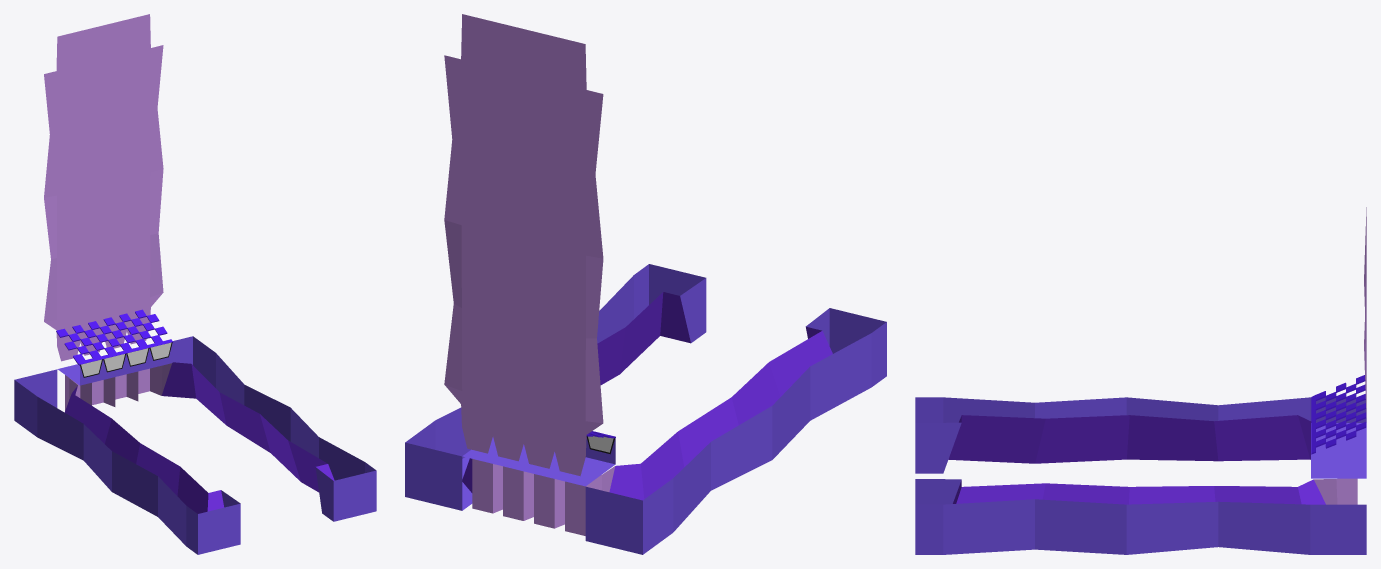
Rendered from bg_purple.fbx.
The picture shows the model from 3 angles, left to right: view 1: azimuth 30°, elevation 25°; view 2: azimuth 150°, elevation 25°; view 3: azimuth 270°, elevation 25°; orthographic projection. The views are drawn at different scales.
Visible parts, largest first — view 1: Background.purple, Background.purple.003, Background.purple.005, Background.purple.001, Grille.purple, Background.purple.025, Background.purple.022, Background.purple.007, Background.purple.002, Background.purple.004, Background.purple.006, Glass.purple (+3 smaller); view 2: Background.purple, Background.purple.006, Background.purple.002, Background.purple.004, Background.purple.025, Background.purple.007, Background.purple.003, Background.purple.005, Background.purple.024, Background.purple.001, Background.purple.021, Background.purple.023 (+5 smaller); view 3: Background.purple.023, Background.purple.024, Background.purple.022, Background.purple.021, Background.purple.003, Background.purple.002, Background.purple.005, Background.purple.004, Background.purple.007, Background.purple, Background.purple.001, Background.purple.025 (+3 smaller).
Boxes of the visible parts, x1=… form: Background.purple: x1=44, y1=14, x2=163, y2=385; Background.purple.003: x1=112, y1=443, x2=180, y2=516; Background.purple.005: x1=37, y1=393, x2=111, y2=460; Background.purple.001: x1=186, y1=490, x2=240, y2=554; Grille.purple: x1=56, y1=309, x2=172, y2=365; Background.purple.025: x1=315, y1=462, x2=376, y2=521; Background.purple.022: x1=219, y1=384, x2=290, y2=452; Background.purple.007: x1=161, y1=336, x2=215, y2=398; Background.purple.002: x1=158, y1=467, x2=208, y2=545; Background.purple.004: x1=83, y1=419, x2=139, y2=491; Background.purple.006: x1=14, y1=369, x2=77, y2=436; Glass.purple: x1=80, y1=342, x2=172, y2=385; Background.purple: x1=444, y1=14, x2=615, y2=486; Background.purple.006: x1=585, y1=463, x2=673, y2=554; Background.purple.002: x1=769, y1=331, x2=871, y2=420; Background.purple.004: x1=678, y1=397, x2=772, y2=490; Background.purple.025: x1=634, y1=264, x2=706, y2=343; Background.purple.007: x1=405, y1=420, x2=472, y2=510; Background.purple.003: x1=731, y1=362, x2=810, y2=459; Background.purple.005: x1=640, y1=432, x2=710, y2=531; Background.purple.024: x1=597, y1=275, x2=663, y2=373; Background.purple.001: x1=805, y1=308, x2=886, y2=386; Background.purple.021: x1=435, y1=407, x2=470, y2=478; Background.purple.023: x1=597, y1=327, x2=625, y2=384; Background.purple.023: x1=1035, y1=483, x2=1129, y2=554; Background.purple.024: x1=943, y1=483, x2=1045, y2=554; Background.purple.022: x1=1126, y1=486, x2=1218, y2=554; Background.purple.021: x1=1214, y1=486, x2=1310, y2=554; Background.purple.003: x1=1035, y1=397, x2=1129, y2=463; Background.purple.002: x1=943, y1=397, x2=1045, y2=463; Background.purple.005: x1=1214, y1=397, x2=1310, y2=461; Background.purple.004: x1=1126, y1=397, x2=1218, y2=461; Background.purple.007: x1=1298, y1=479, x2=1366, y2=554; Background.purple: x1=1311, y1=207, x2=1366, y2=478; Background.purple.001: x1=915, y1=397, x2=961, y2=473; Background.purple.025: x1=915, y1=479, x2=961, y2=554.
Bounding box in the file's own units: 8.99 × 17.97 × 16.
